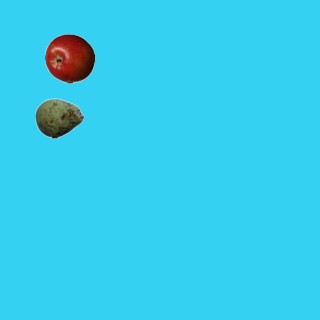Apple Braeburn: (44, 33, 94, 83)
Pear Stone: (34, 93, 84, 143)
